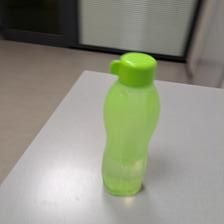bottle: (93, 49, 162, 202)
